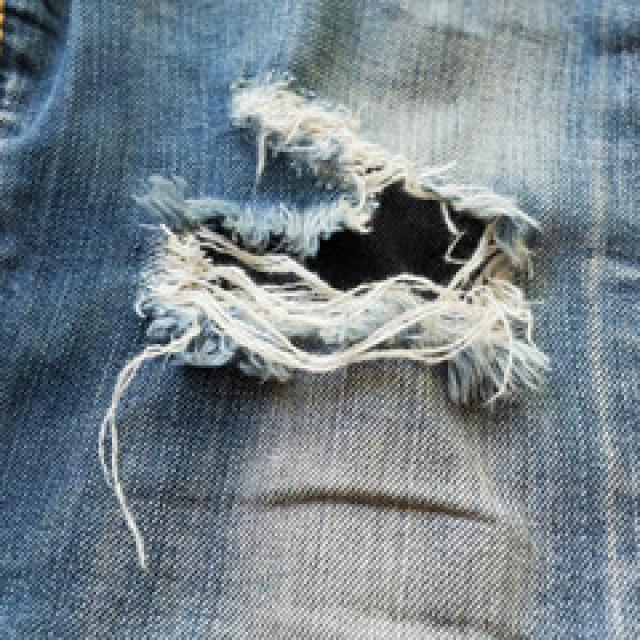Hole: (137, 75, 549, 408)
